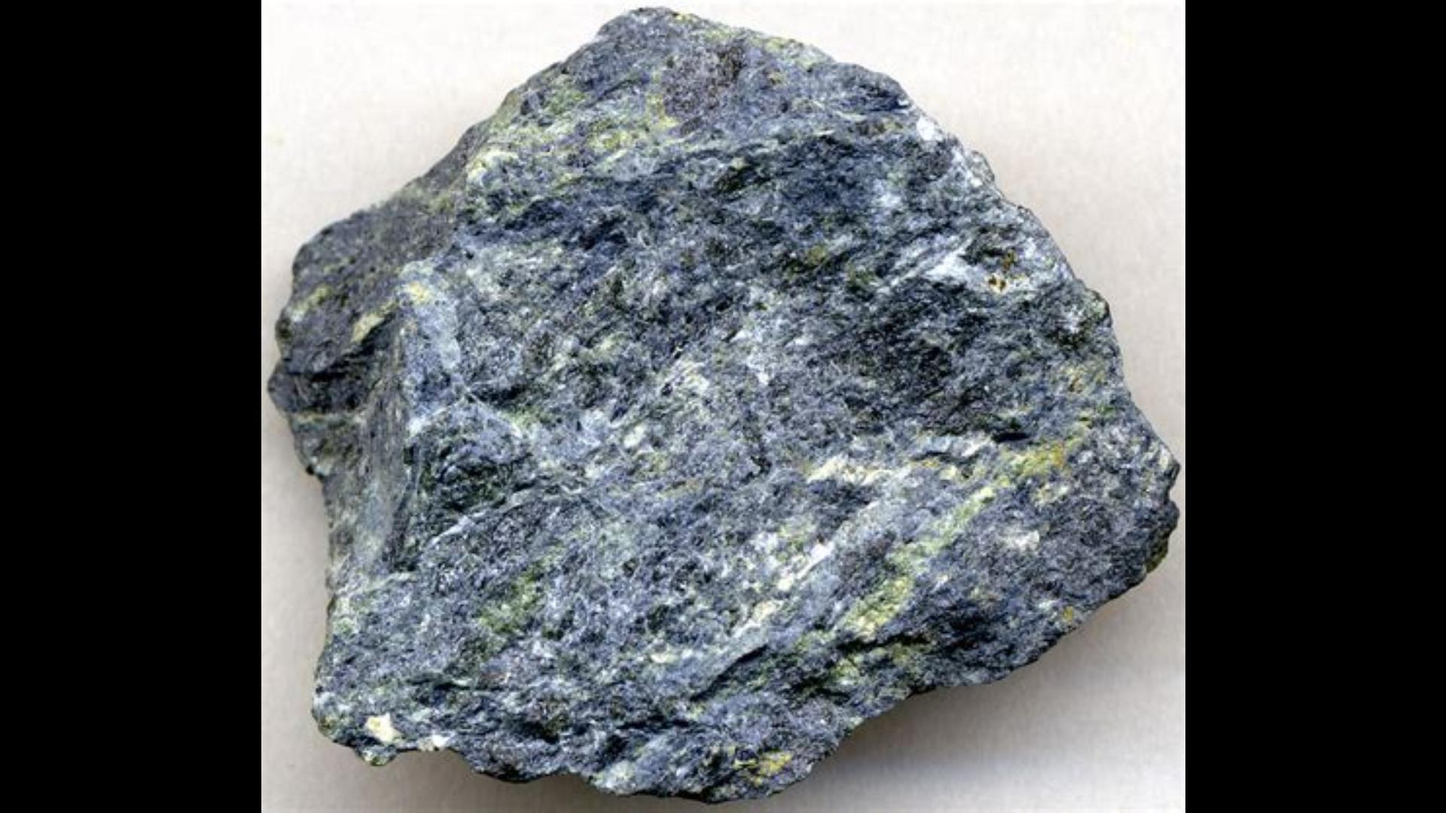rock: (268, 10, 1175, 799)
